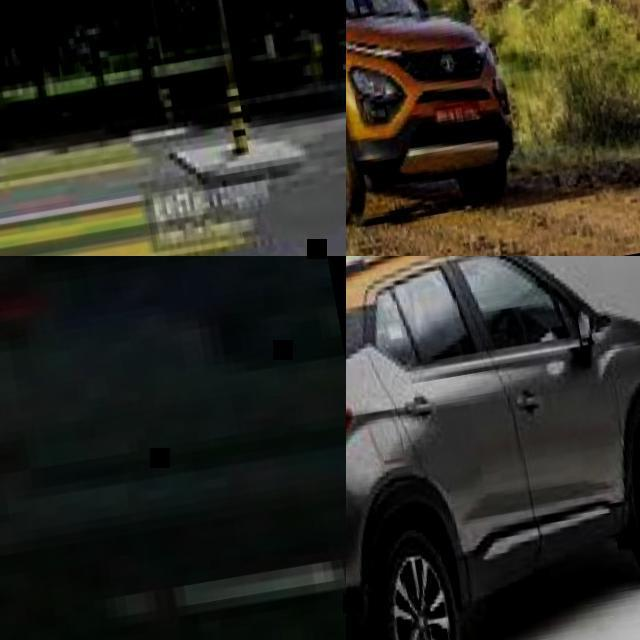car: (344, 252, 640, 628), (344, 4, 513, 204)
